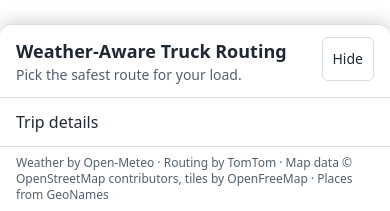
Test: Panel on phones › folds the details down to the title and back, announcing its state
Later steps or results of the test are not shown.
expect the text "Trip details" is shown: met, box [16, 111, 98, 133]
Click the button with aria-label "hide trip details" at [348, 59], box [322, 37, 374, 81]
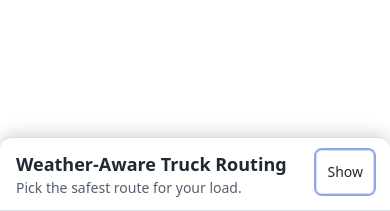
expect the heading "Weather-Aware Truck Routing" is shown: met, box [16, 150, 287, 178]
expect the button with aria-label "show trip details" is collapsed: met, box [316, 150, 374, 194]
